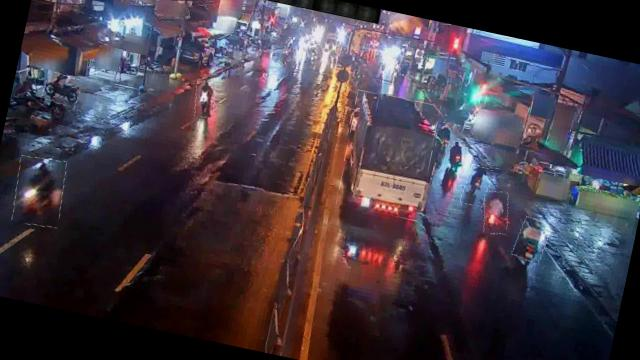Bike: (9, 153, 70, 229), (513, 216, 552, 264), (479, 189, 513, 236), (42, 70, 82, 106), (460, 163, 492, 207), (192, 80, 219, 119), (444, 140, 468, 174), (434, 121, 456, 149)
Truck: (334, 88, 442, 221)
